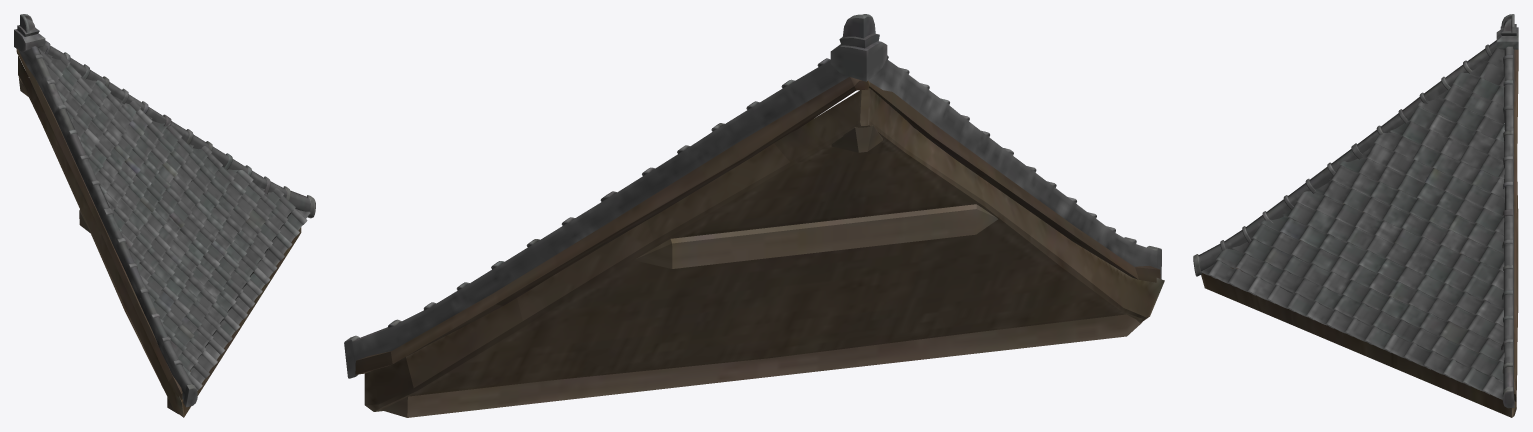
File: Architecture_JapaneseStyle_SlopeRoofCorner_8abe41.glb
The picture shows the model from 3 angles, left to right: view 1: azimuth 30°, elevation 25°; view 2: azimuth 150°, elevation 25°; view 3: azimuth 270°, elevation 25°; orthographic projection. The views are drawn at different scales.
Bounding box in the file's own units: 4.26 × 3.96 × 4.26.
Materials: 1 (1 with a texture image).
